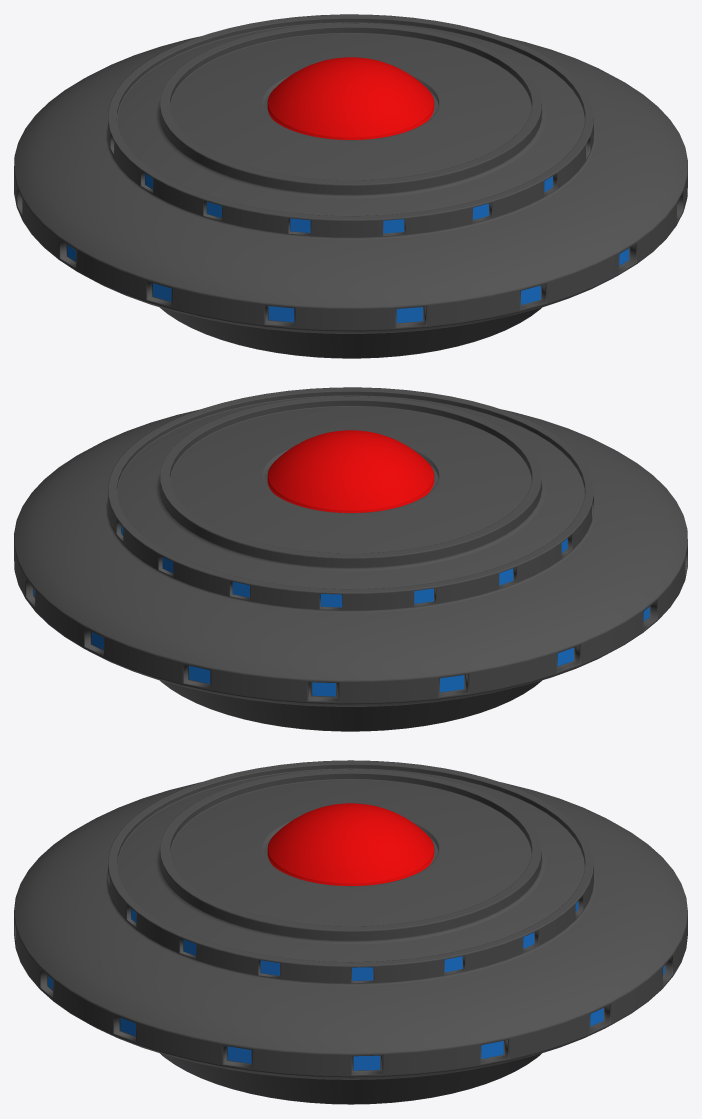
File: ufo.glb
The picture shows the model from 3 angles, top to bottom: view 1: azimuth 30°, elevation 25°; view 2: azimuth 150°, elevation 25°; view 3: azimuth 270°, elevation 25°; orthographic projection.
Visible parts, largest first — view 1: UFO; view 2: UFO; view 3: UFO.
Part boxes in pixels (left/top/right/bottom): UFO: left=14, top=14, right=687, bottom=358; UFO: left=14, top=387, right=687, bottom=731; UFO: left=14, top=760, right=687, bottom=1104.
Bounding box in the file's own units: 1.94 × 0.6983 × 1.94.
